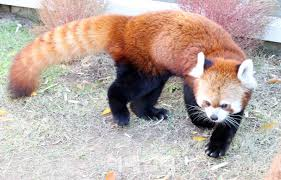redPanda: (6, 6, 256, 149)
